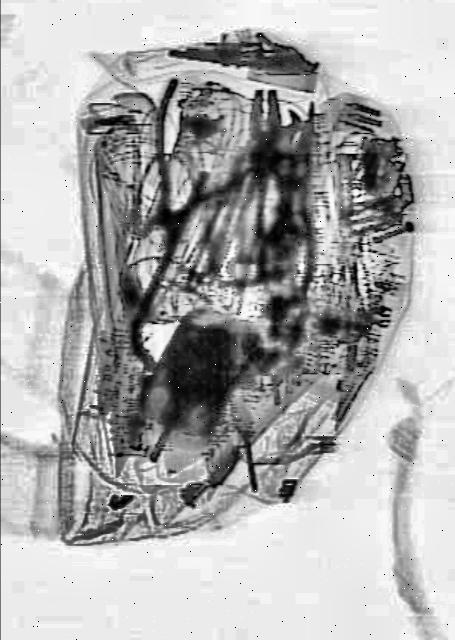Pliers: (108, 78, 258, 282), (233, 90, 293, 258)
